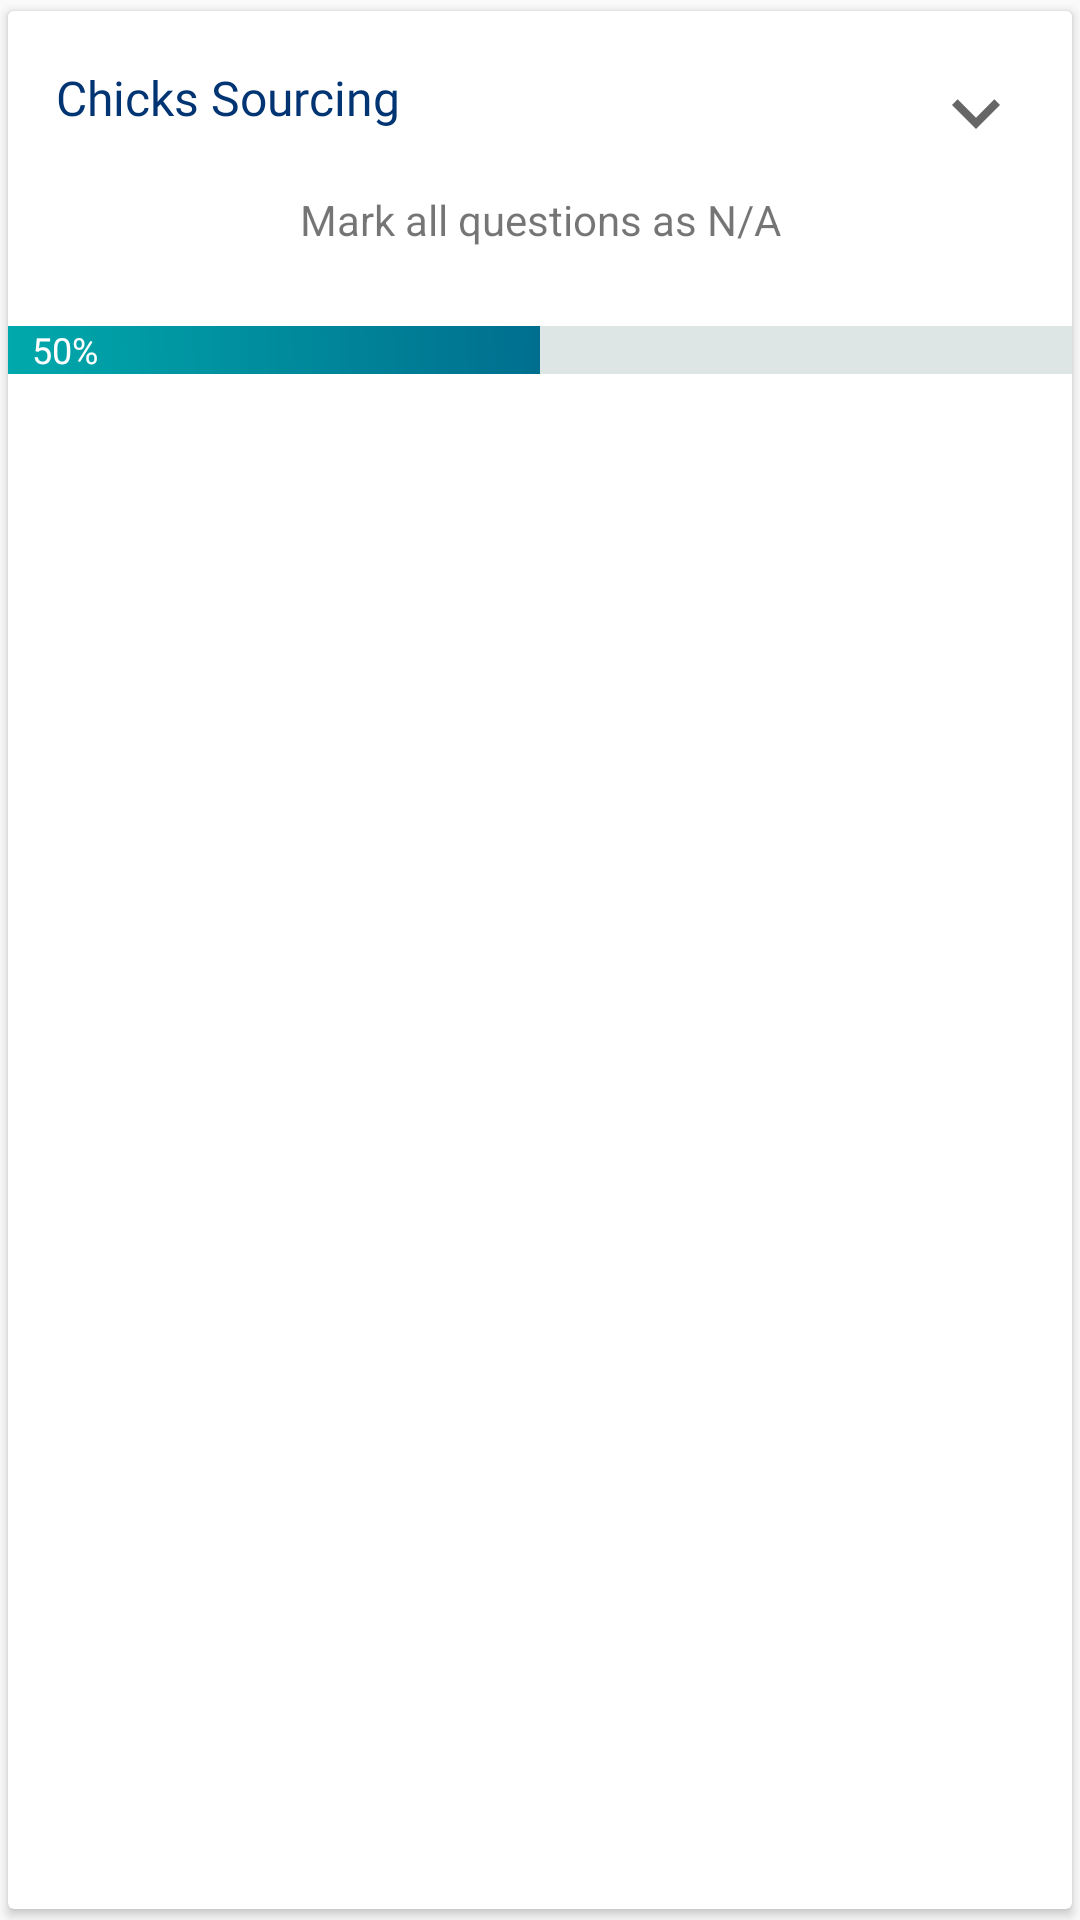

Named icons in this screenshot (1080x1920) and their centers, (x=x, y=y):
expand more: (x=976, y=114)
